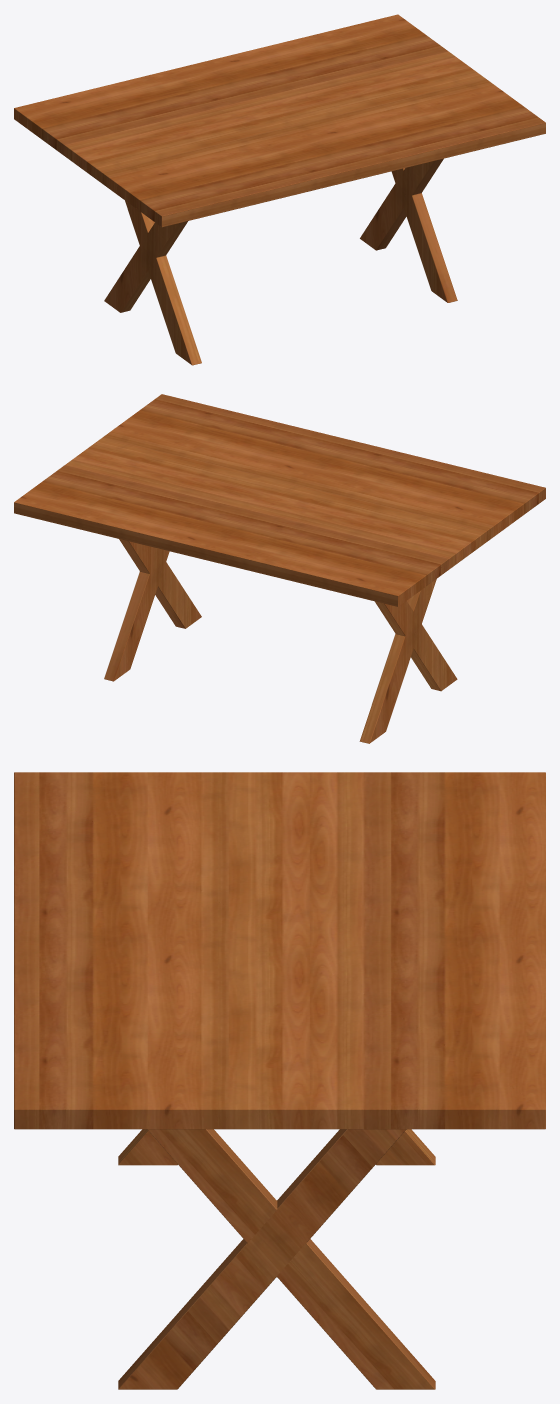
The model's file is 08dee582-4ac7-47fc-a1e1-192e677da403.glb.
The picture shows the model from 3 angles, top to bottom: view 1: azimuth 30°, elevation 25°; view 2: azimuth 150°, elevation 25°; view 3: azimuth 270°, elevation 25°; orthographic projection. The views are drawn at different scales.
Visible parts, largest first — view 1: SIZE.001, Cube.002; view 2: SIZE.001, Cube.002; view 3: SIZE.001, Cube.002.
Part boxes in pixels (bbox=[...]): SIZE.001: bbox=[14, 14, 545, 227]; Cube.002: bbox=[104, 158, 457, 365]; SIZE.001: bbox=[14, 394, 545, 606]; Cube.002: bbox=[104, 539, 457, 743]; SIZE.001: bbox=[14, 772, 545, 1129]; Cube.002: bbox=[118, 1129, 435, 1389].
Size of the model in its own units: 1.5 by 0.6901 by 1.
2 materials, 2 textured.
